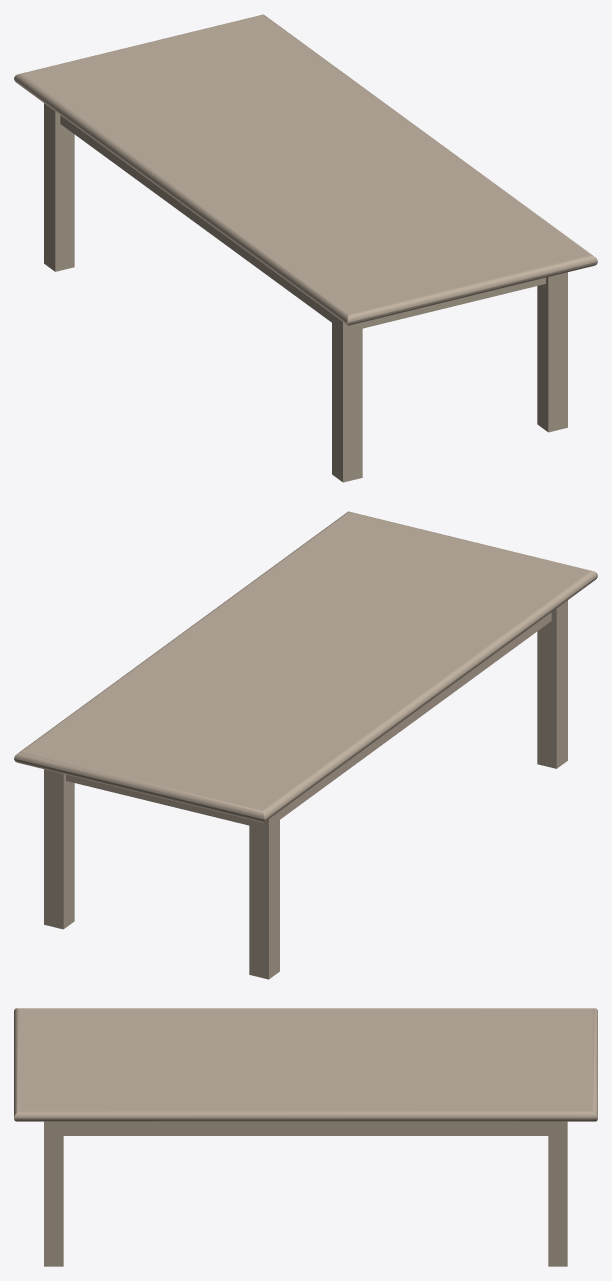
File: GrandeTable_35.fbx
The picture shows the model from 3 angles, top to bottom: view 1: azimuth 30°, elevation 25°; view 2: azimuth 150°, elevation 25°; view 3: azimuth 270°, elevation 25°; orthographic projection. The views are drawn at different scales.
Parts seen in each view (by area): view 1: pCube80, pCube82, pCube81, pCube83; view 2: pCube80, pCube83, pCube84, pCube82; view 3: pCube80, pCube84, pCube81.
Part boxes in pixels (box(x1,y1,x2,y2)): pCube80: box(14, 14, 597, 328); pCube82: box(332, 314, 362, 482); pCube81: box(537, 272, 567, 432); pCube83: box(44, 103, 74, 271); pCube80: box(14, 511, 597, 825); pCube83: box(249, 811, 279, 979); pCube84: box(44, 769, 74, 929); pCube82: box(537, 600, 567, 768); pCube80: box(14, 1008, 597, 1135); pCube84: box(548, 1121, 567, 1266); pCube81: box(44, 1121, 63, 1266).
Bounding box in the file's own units: 57.3 × 39.63 × 132.
